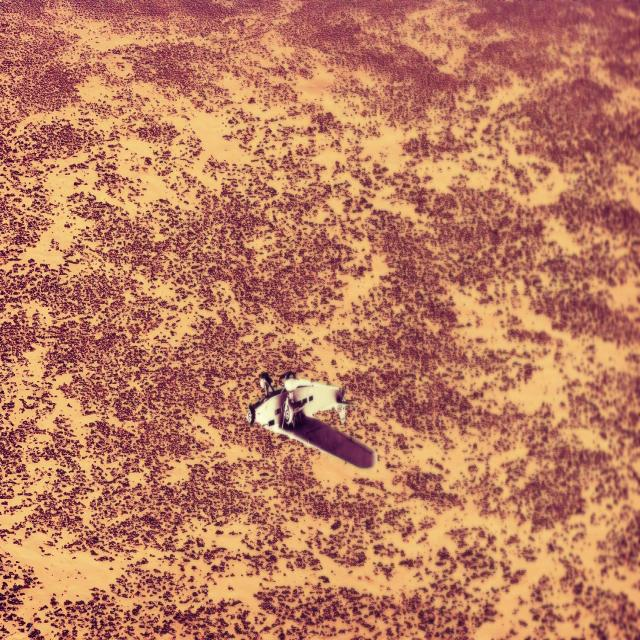airplane: (246, 370, 376, 470)
